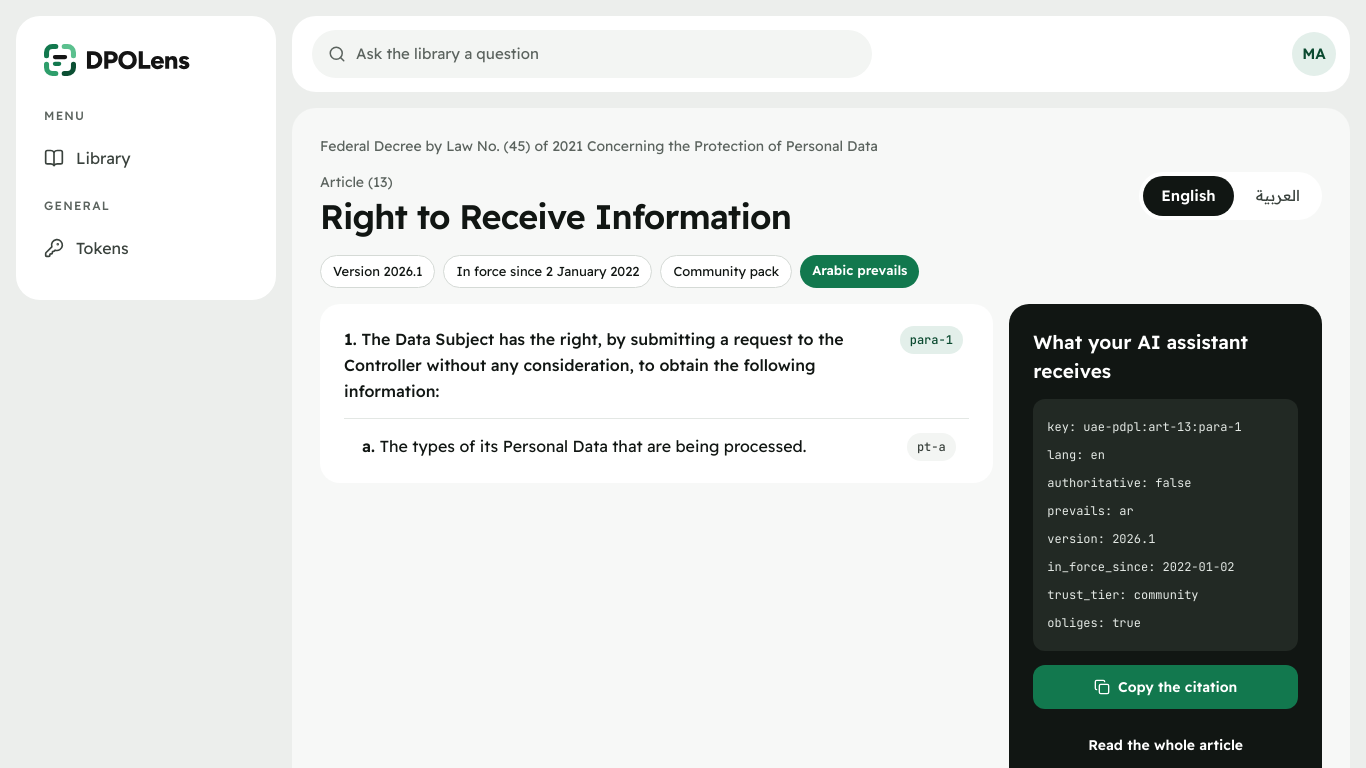
it: a clause › reads in one language, with a switch to the other that is remembered
Expected: the heading "Right to Receive Information" is shown, [320, 196, 791, 238]
Expected: the text "يحق لصاحب البيانات" is not shown
Click the button "العربية" at (1278, 196), box [1238, 176, 1318, 216]
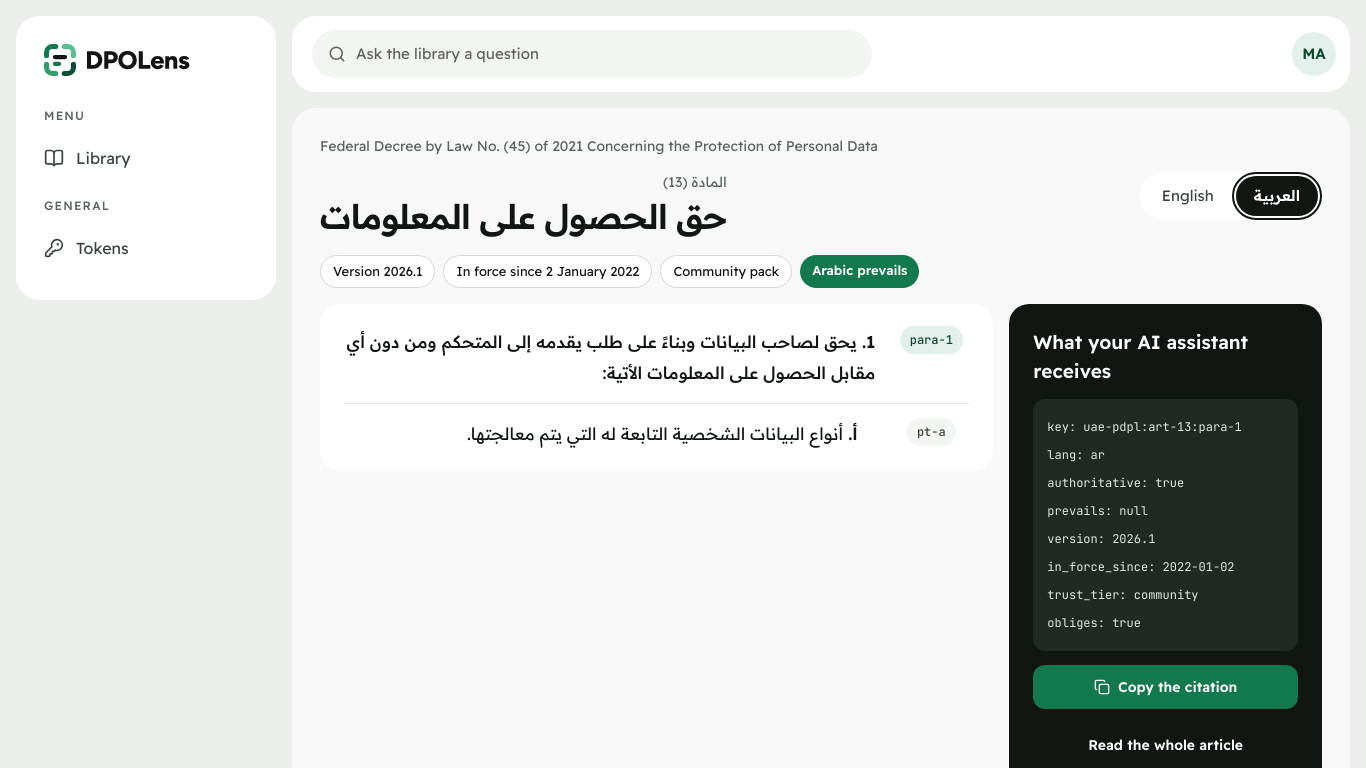
Expected: the heading "حق الحصول على المعلومات" is shown, [320, 196, 727, 238]
Expected: the text "The Data Subject has the right" is gone
